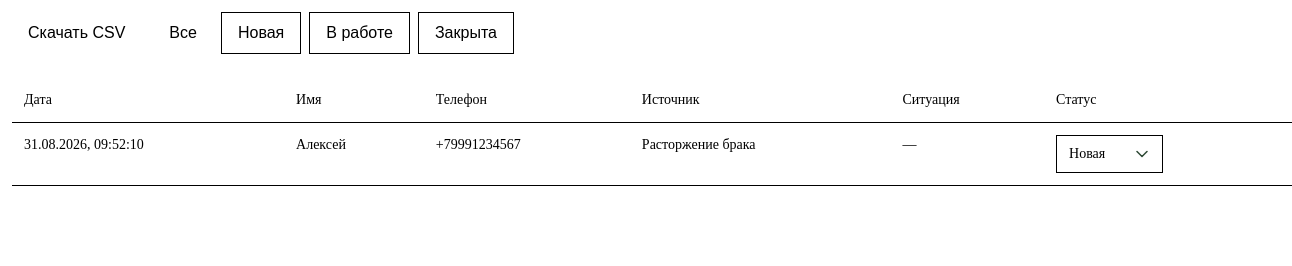
Test: LeadsPanel status filter › keeps the status filter on load more
What coordinates should you click on to do the following:
click the button "Закрыта"
I would click on:
 (466, 33)
Its box is [418,12,514,54].
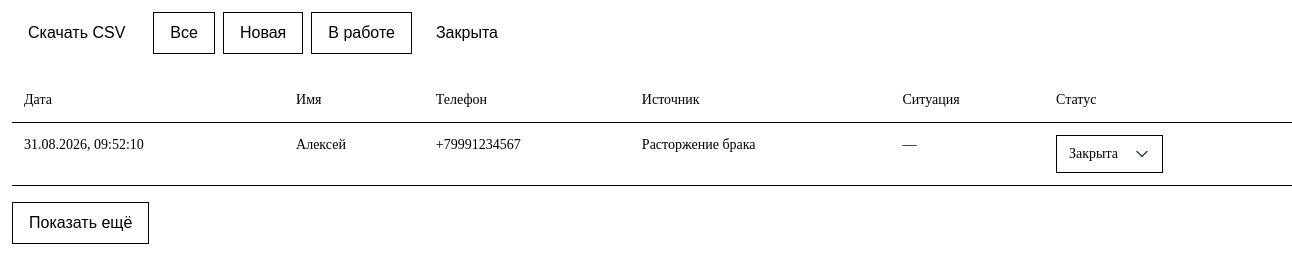
What coordinates should you click on to do the following:
click the button "Показать ещё"
I would click on:
 (81, 223)
Its box is [12,202,149,244].
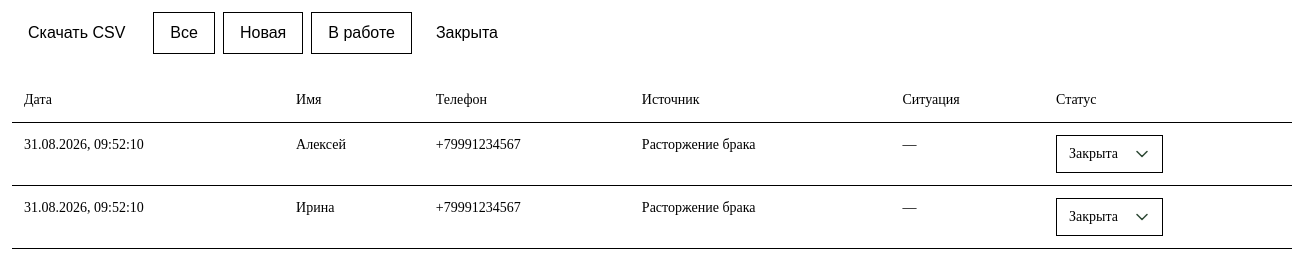
Check: the text "Ирина" is shown, box [284,186,424,248]
